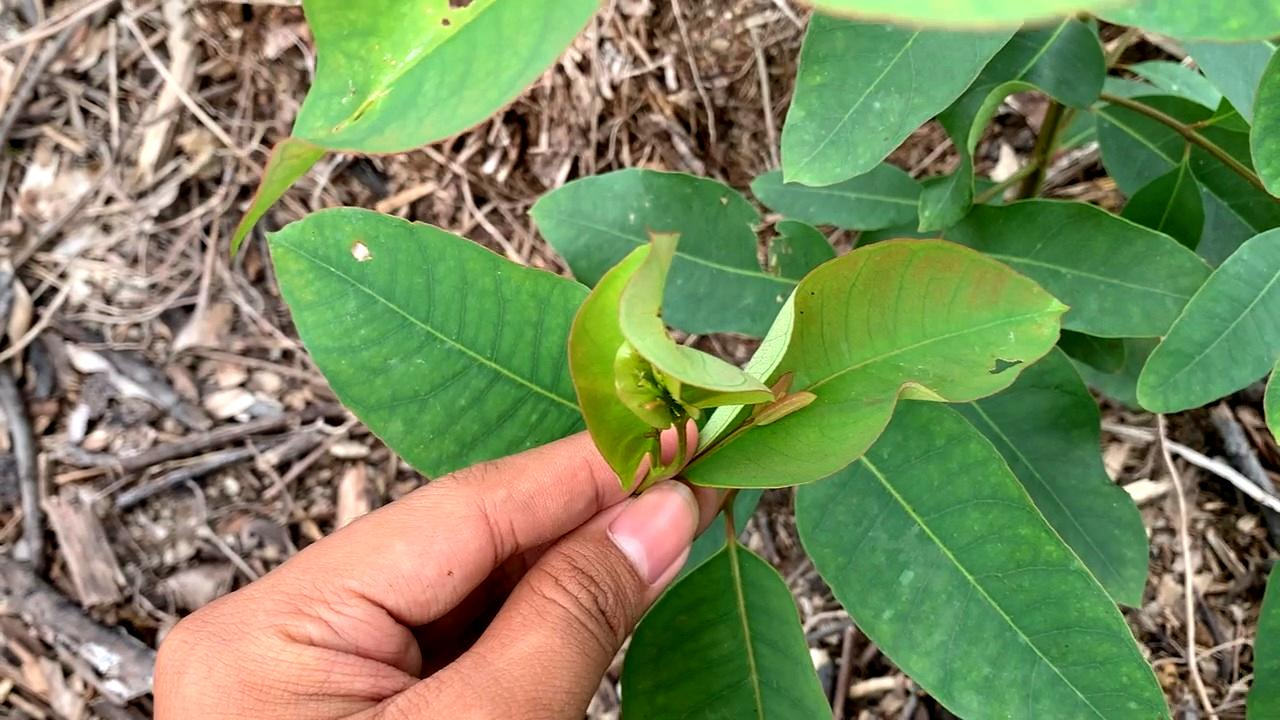Leaf Roller - Leaf: (564, 229, 782, 499)
